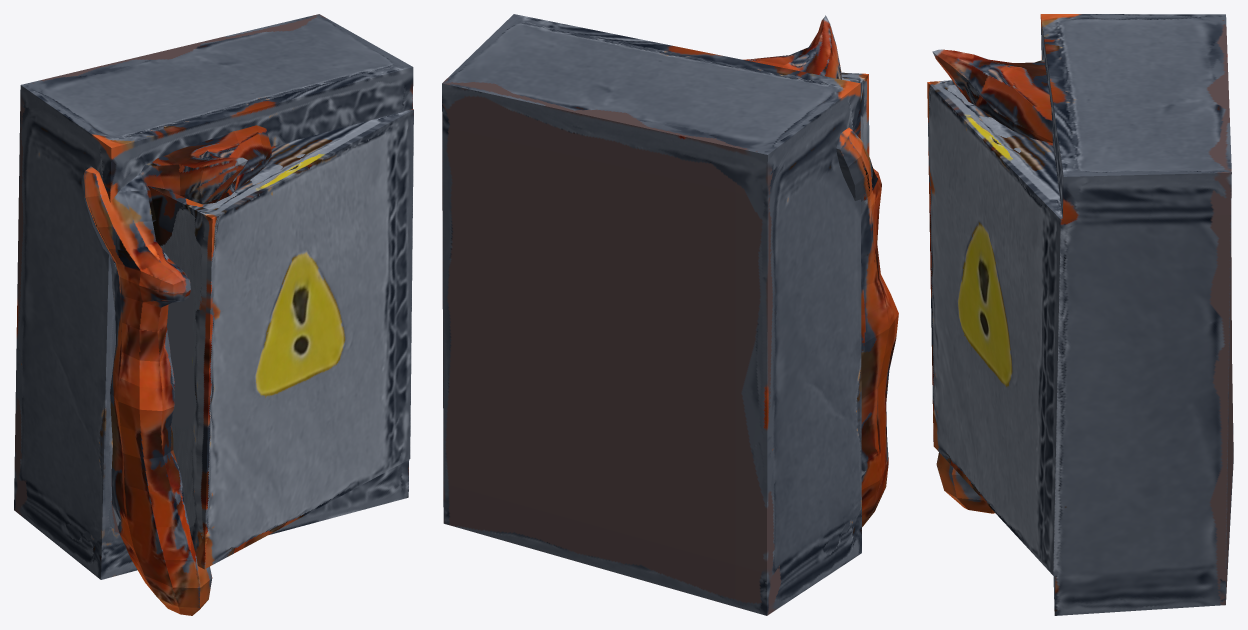
The model's file is Elskåp.fbx.
The picture shows the model from 3 angles, left to right: view 1: azimuth 30°, elevation 25°; view 2: azimuth 150°, elevation 25°; view 3: azimuth 270°, elevation 25°; orthographic projection. The views are drawn at different scales.
Visible parts, largest first — view 1: Cube; view 2: Cube; view 3: Cube.
Boxes of the visible parts, box(x1,y1,x2,y2) form: Cube: box(14, 14, 413, 615); Cube: box(442, 14, 898, 615); Cube: box(927, 14, 1233, 615).
Bounding box in the file's own units: 15.7 × 21.32 × 12.26.
